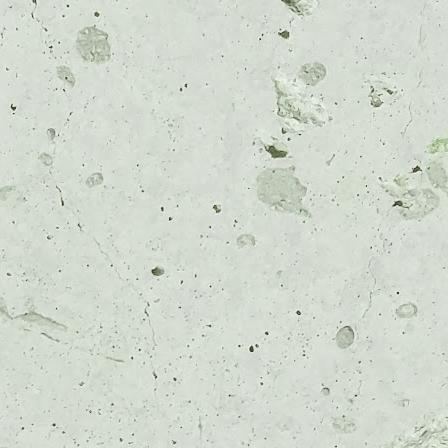crack: (0, 0, 196, 444), (333, 195, 415, 351), (384, 0, 445, 149), (339, 372, 368, 414)
spalling: (270, 64, 334, 137), (370, 407, 448, 448), (376, 169, 421, 205), (361, 74, 401, 111), (253, 129, 293, 165), (279, 0, 318, 18)
